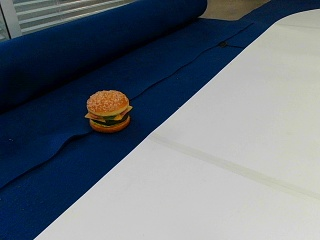burger: (86, 89, 131, 131)
